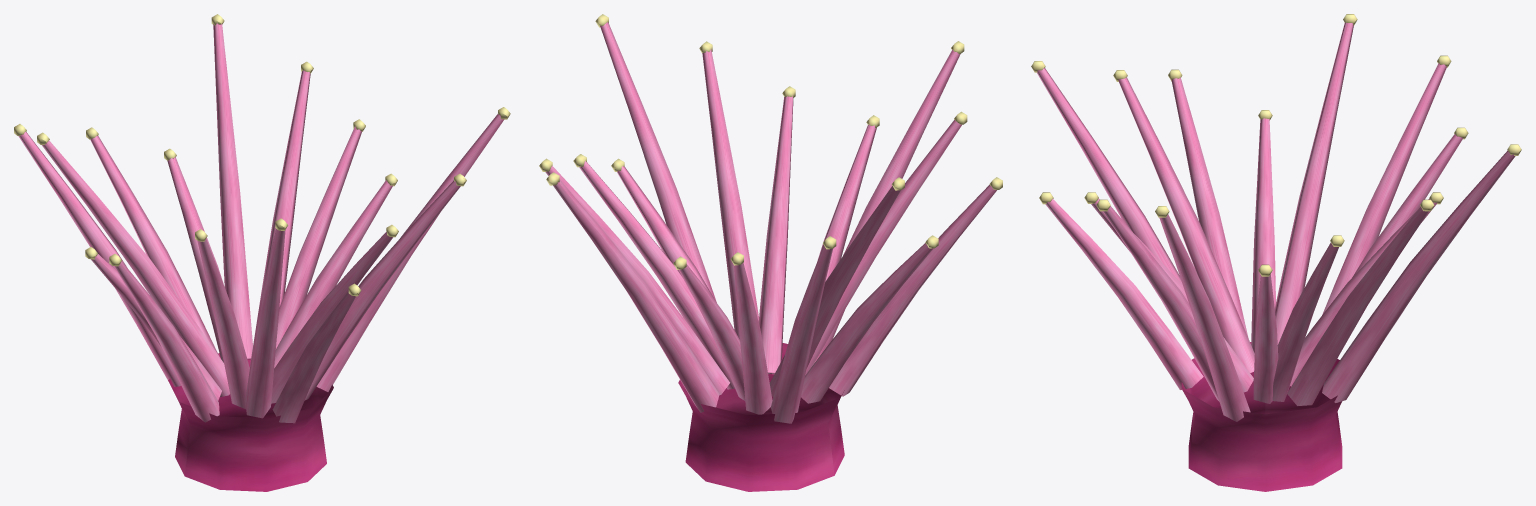
Rendered from sea_anemone.glb.
The picture shows the model from 3 angles, left to right: view 1: azimuth 30°, elevation 25°; view 2: azimuth 150°, elevation 25°; view 3: azimuth 270°, elevation 25°; orthographic projection. The views are drawn at different scales.
Bounding box in the file's own units: 0.6507 × 0.5359 × 0.6674.
1 material, 1 textured.
